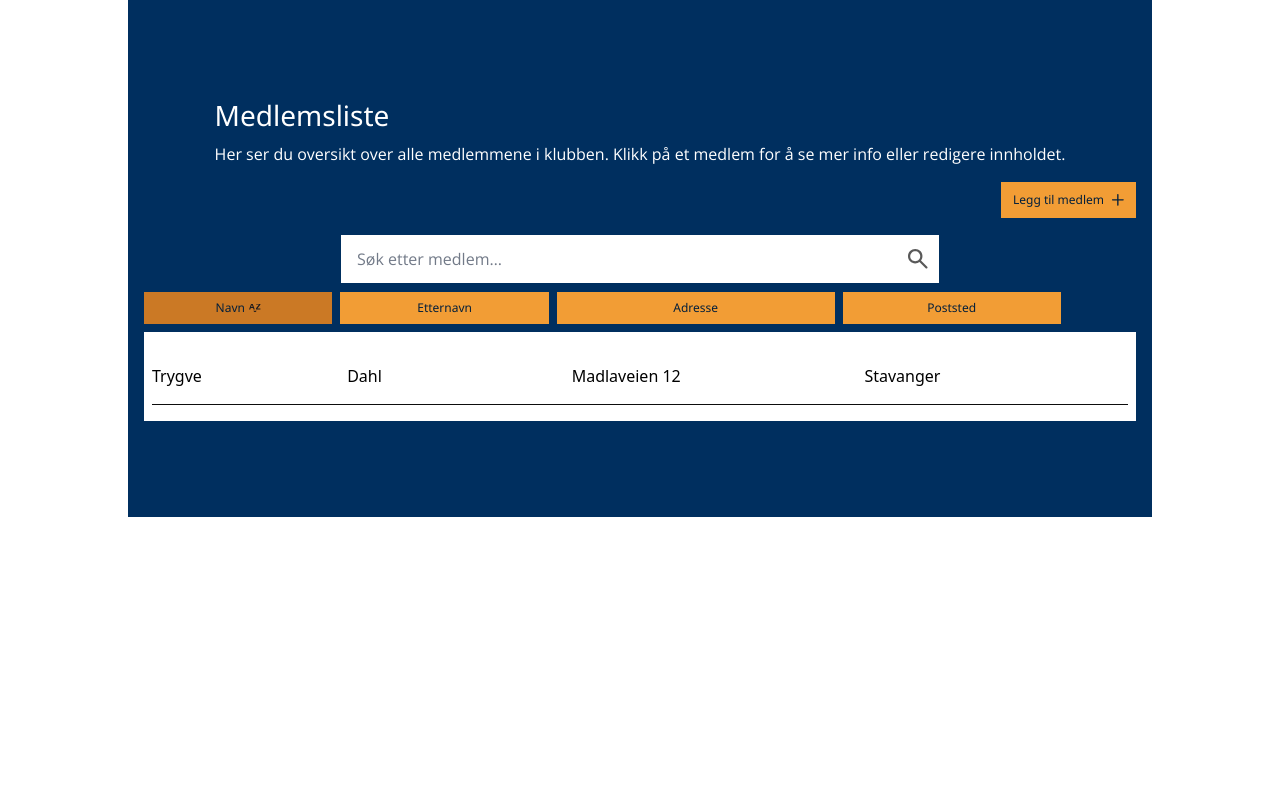
Test case: MemberSearchList — keyboard operability (#168) › still opens on a mouse click
Step 1. Click the button with aria-label "Vis Trygve Dahl" → (640,376), box [152,348,1128,405]
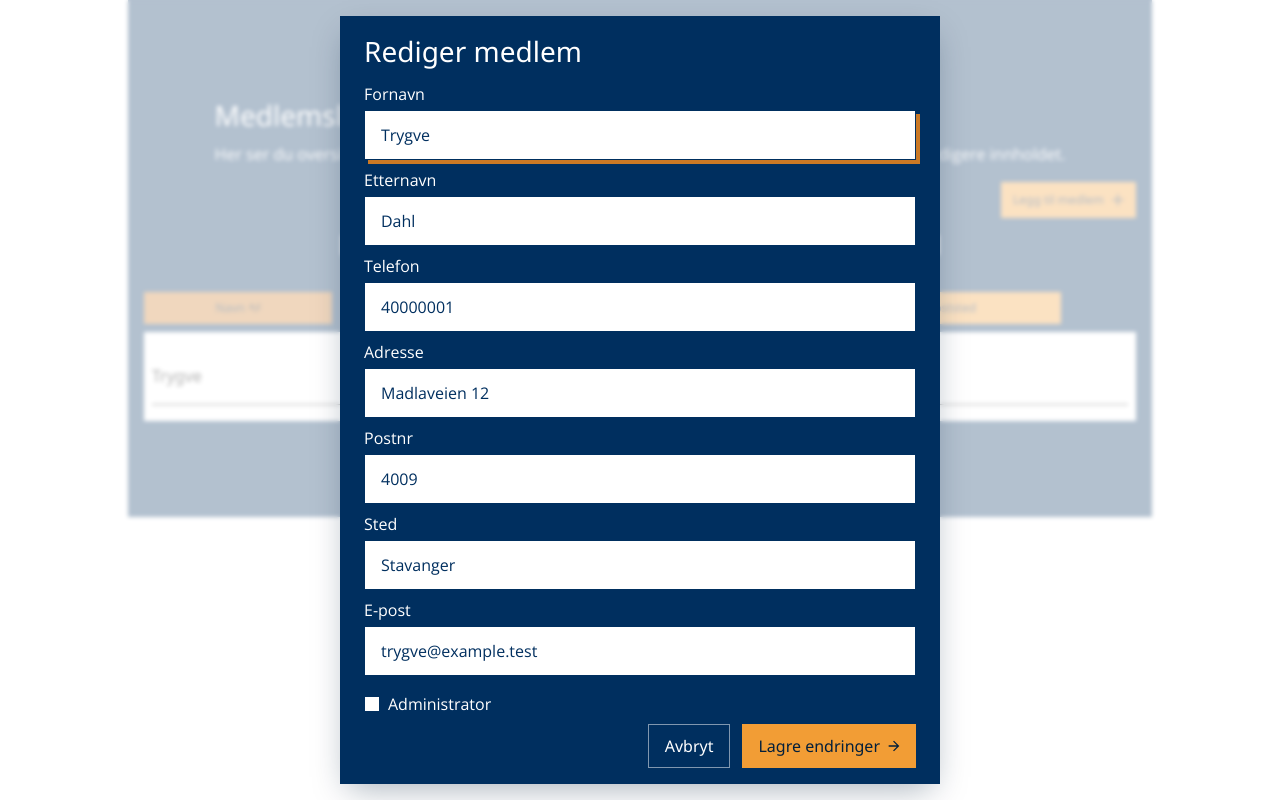
expect the heading "Rediger medlem" is shown: met, box [364,32,582,70]
